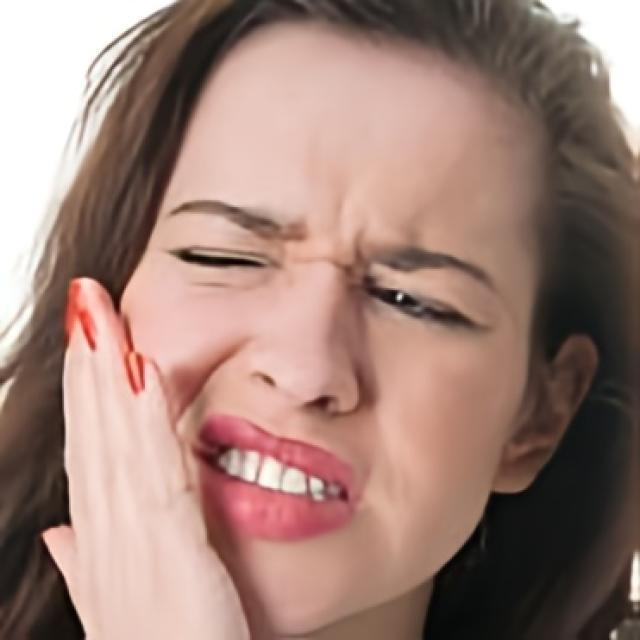disgust: (120, 9, 544, 640)
